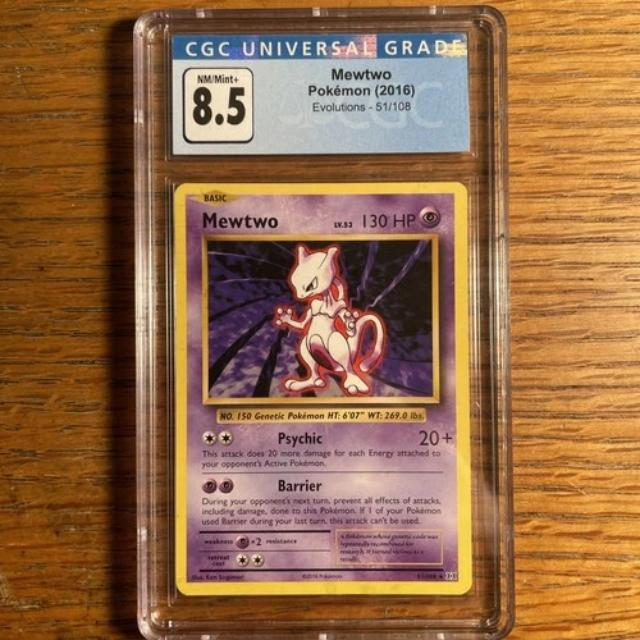Card: (170, 175, 474, 598)
Name: (200, 207, 280, 233)
